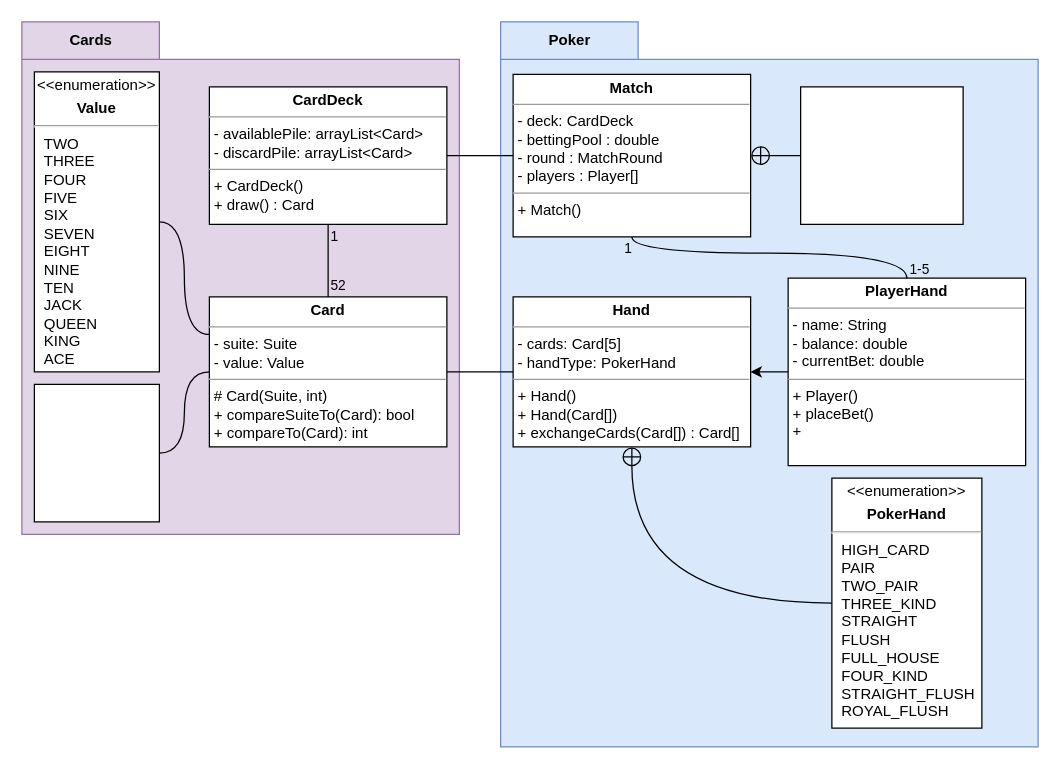
This 1060x769 diagram has some shape labels left out. The centre of each missing label's shape, as x and y in pixels:
<<enumeration>> MatchRound FIRST_BETTING DRAWING SECOND_BETTING SHOWDOWN: point 881,155
<<enumeration>> Suite DIAMONDS HEARTS SPADES CLUBS: point 96,452
